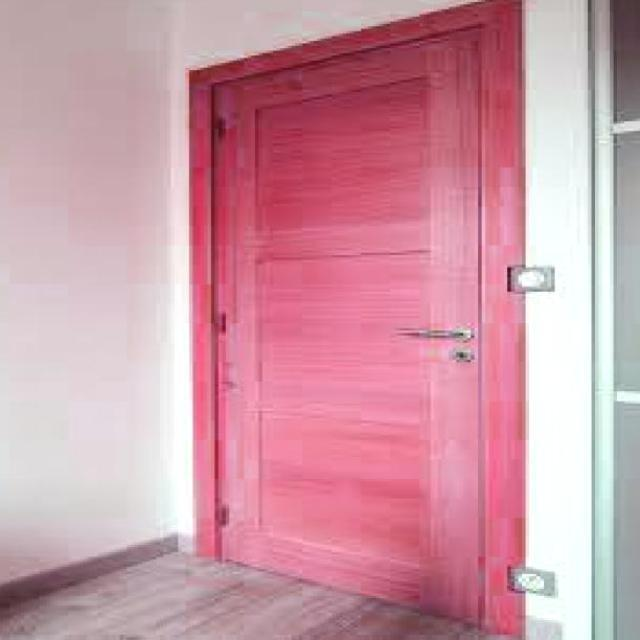door: (189, 2, 525, 634)
